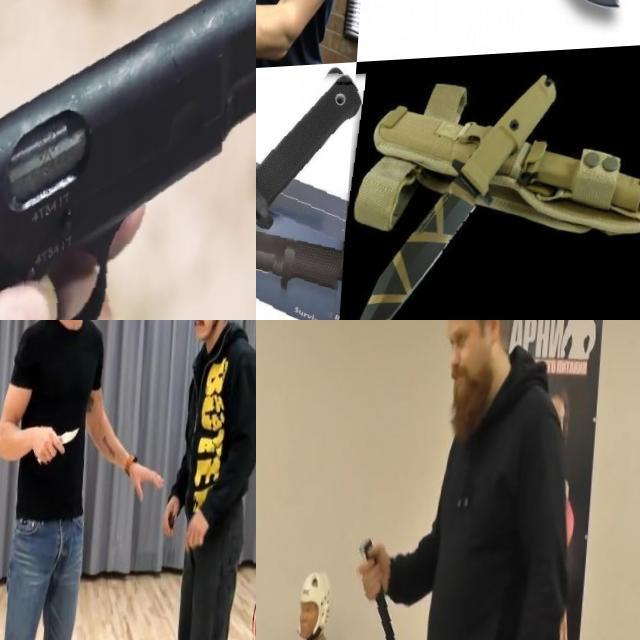-: (256, 63, 399, 320), (419, 0, 640, 134), (352, 535, 421, 640), (256, 0, 285, 80), (41, 426, 85, 468)
gun-knife-thesis - v11 Yolov5 augmented: (0, 0, 256, 320)
